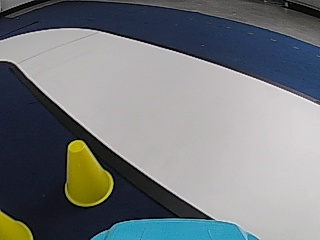cone: (64, 140, 111, 206), (1, 210, 32, 239)
